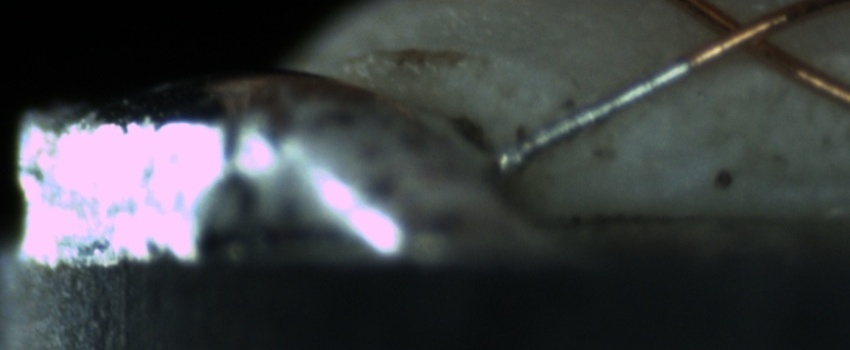CL: (691, 2, 794, 66)
TS: (493, 53, 690, 172)
